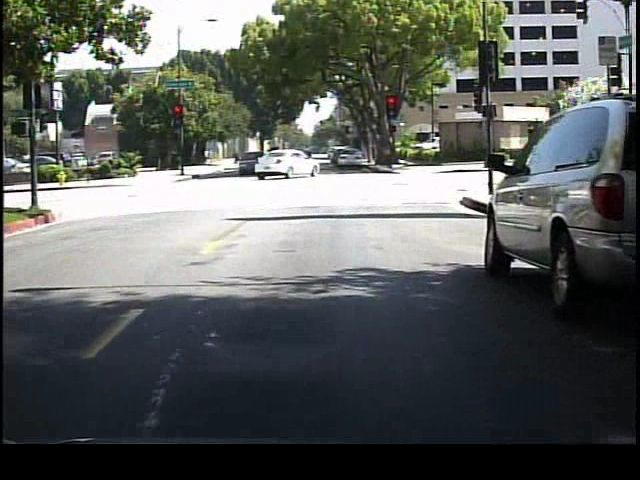person: (299, 142, 316, 176)
